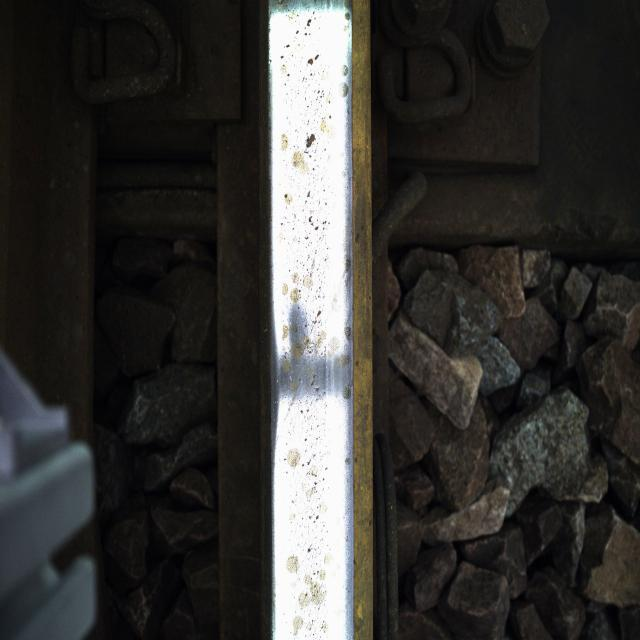scar: (285, 10, 336, 416)
